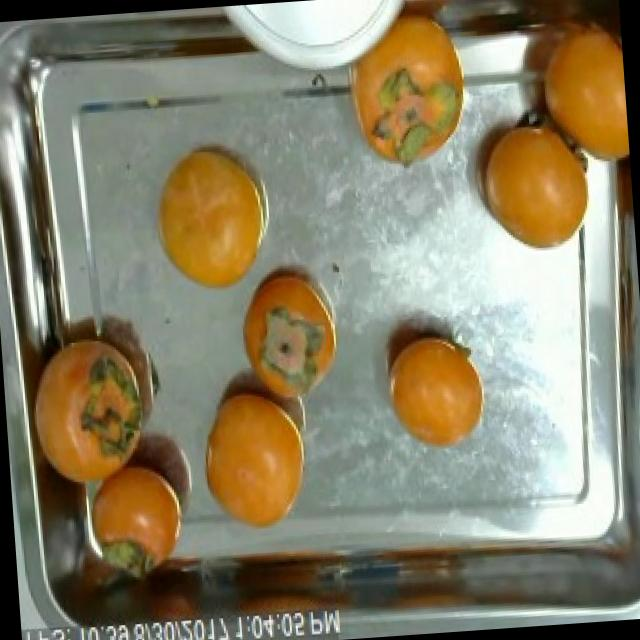Fruit: (325, 0, 490, 184), (22, 326, 158, 502), (184, 376, 315, 548), (143, 135, 276, 304), (462, 103, 598, 264), (376, 320, 496, 460), (242, 250, 344, 404), (74, 446, 194, 568)
